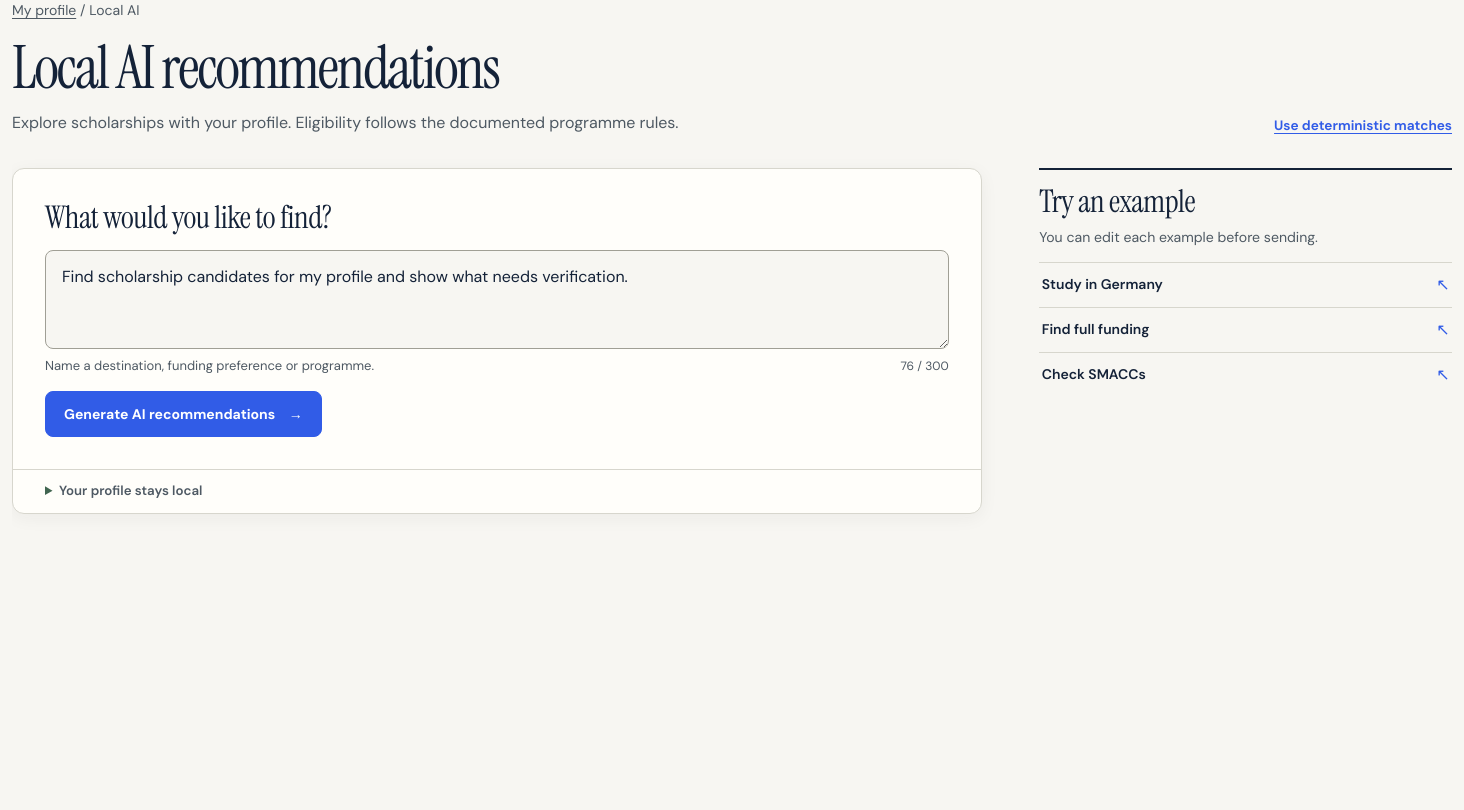
Scenario: local agent recommendations › shows deterministic recovery after an Ollama outage without duplicating fallback candidates
The image size is (1464, 810).
Step 1. Click the button "Generate AI recommendations →" → (183, 414), box [45,391,322,437]
(page scrolled)
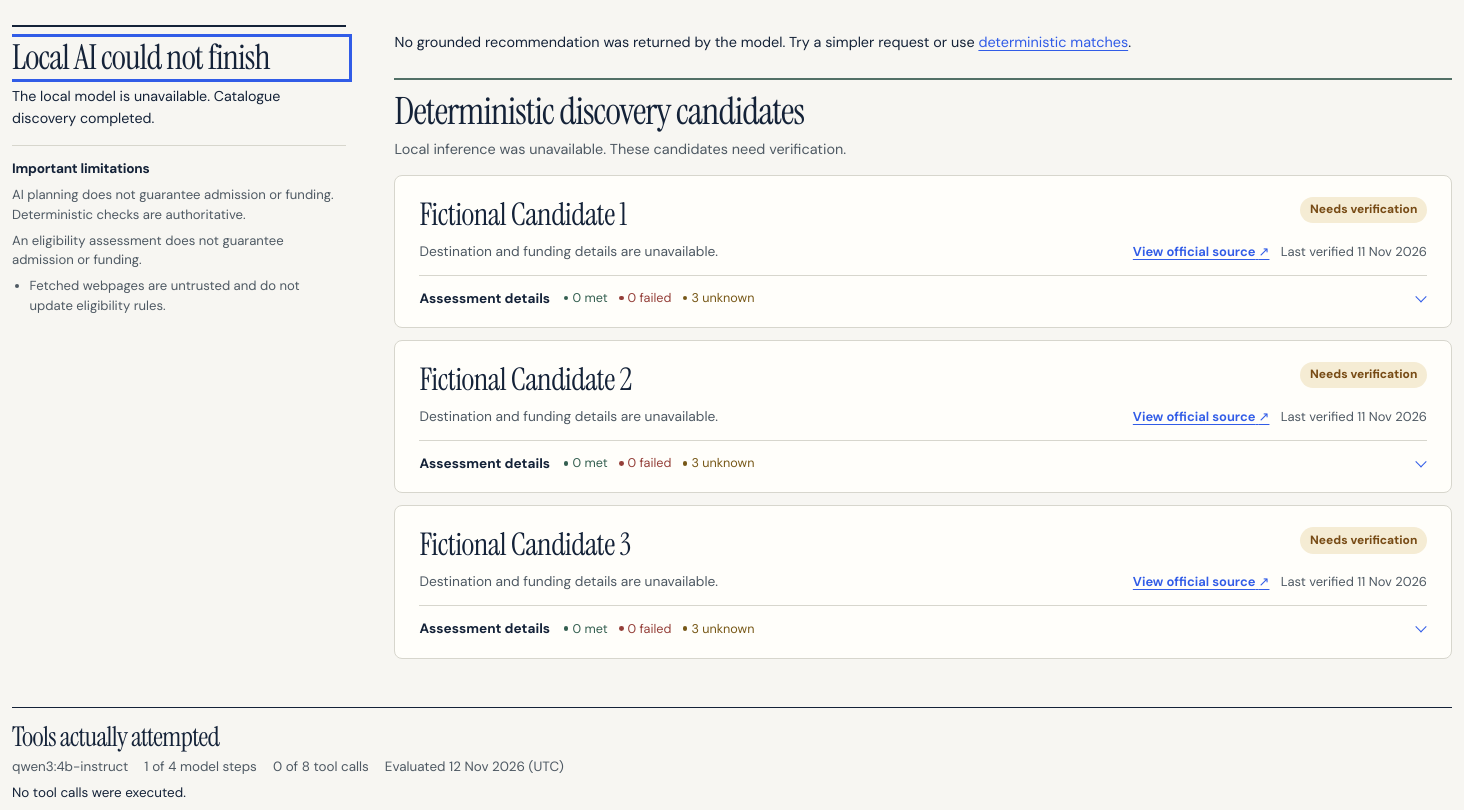
Result: the heading "Local AI could not finish" is shown at [12,35,270,80]
Result: the text "The local model is unavailable. Catalogue discovery completed." is shown at [12,87,280,127]
Result: the number of elements named "Eligibility assessment" is 3 at [394,175,1452,328]; [394,340,1452,493]; [394,505,1452,659]
